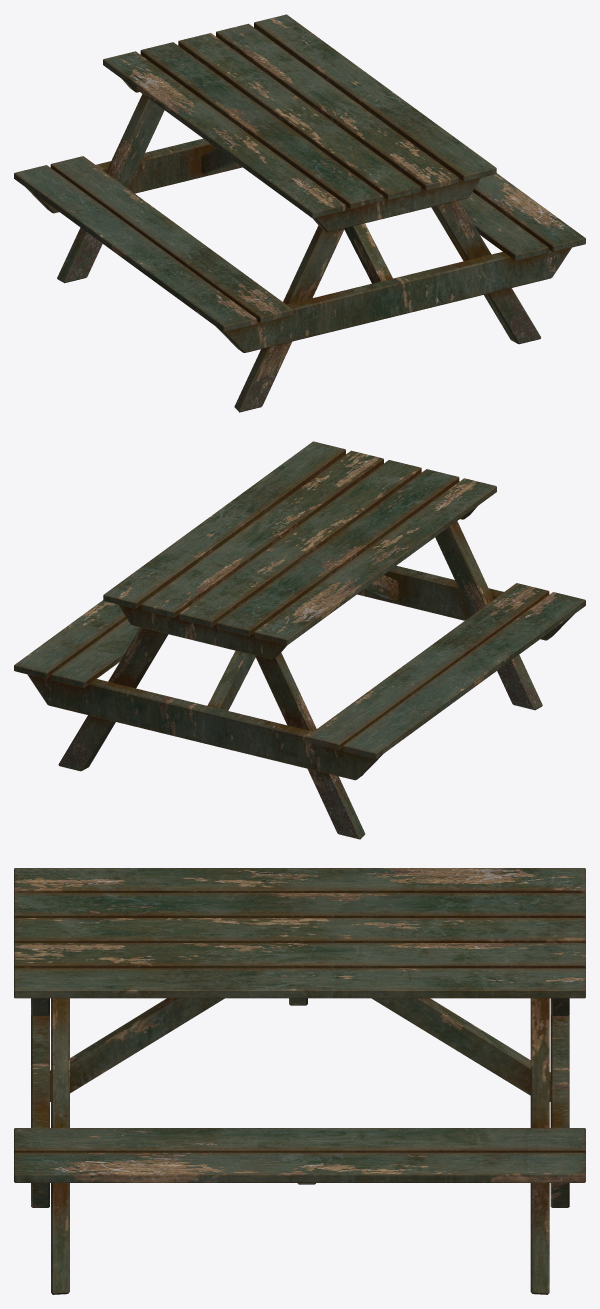
Rendered from picnic_table1.glb.
The picture shows the model from 3 angles, top to bottom: view 1: azimuth 30°, elevation 25°; view 2: azimuth 150°, elevation 25°; view 3: azimuth 270°, elevation 25°; orthographic projection. The views are drawn at different scales.
Visible parts, largest first — view 1: picnic_table1; view 2: picnic_table1; view 3: picnic_table1.
Boxes of the visible parts, x1,y1,x2,y2 form: picnic_table1: (14, 14, 585, 412); picnic_table1: (14, 441, 585, 839); picnic_table1: (14, 868, 585, 1294).
Size of the model in its own units: 1.5 by 0.7718 by 1.5.
1 material, 1 textured.
